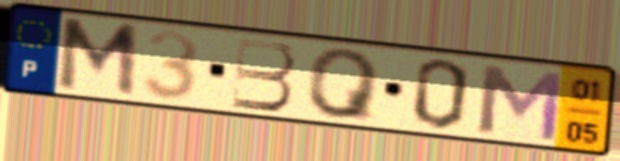0: (408, 55, 473, 133)
3: (138, 25, 203, 104)
B: (228, 35, 299, 114)
M: (53, 15, 143, 102), (475, 60, 566, 145)
Q: (305, 47, 385, 124)
